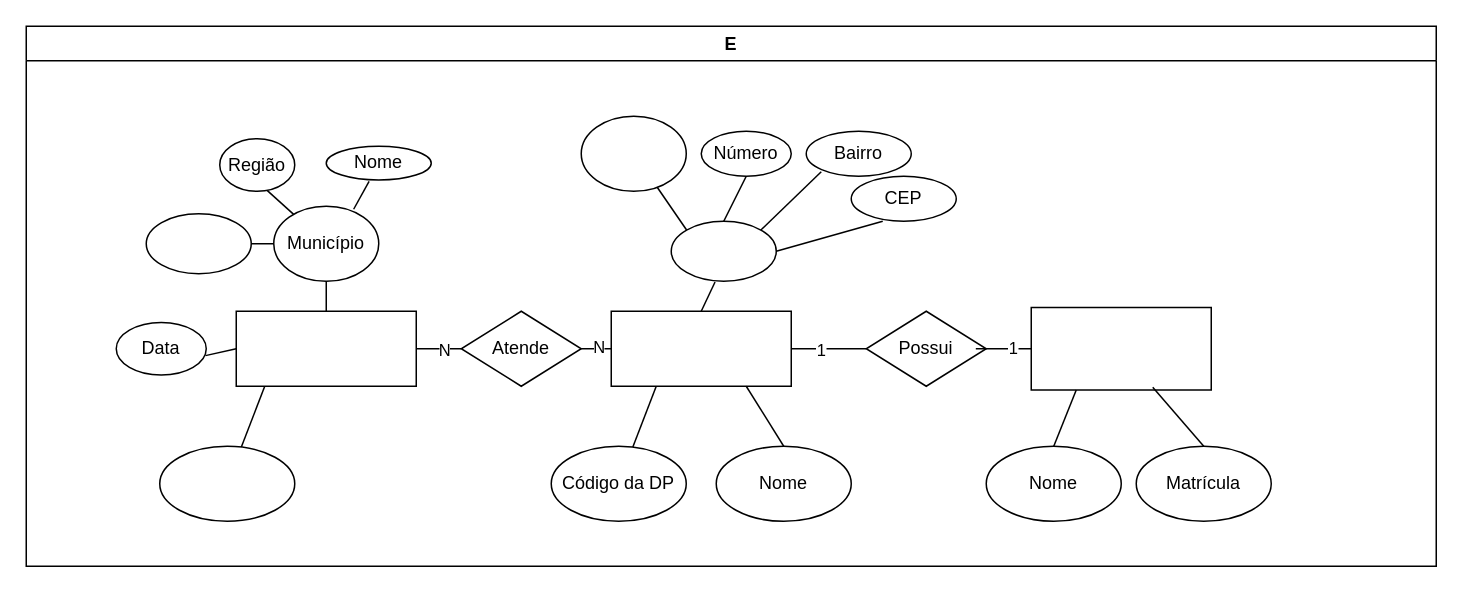
Image size: 1463x593. Some labels were removed from this diagram. Each missing label, with the centre of its shape:
Código IBGE: the point at 198,243
Delegacia: the point at 700,348
Endereço: the point at 723,250
Logradouro: the point at 633,153
Ocorrência: the point at 325,348
Responsável: the point at 1120,348
Tipo: the point at 226,483
